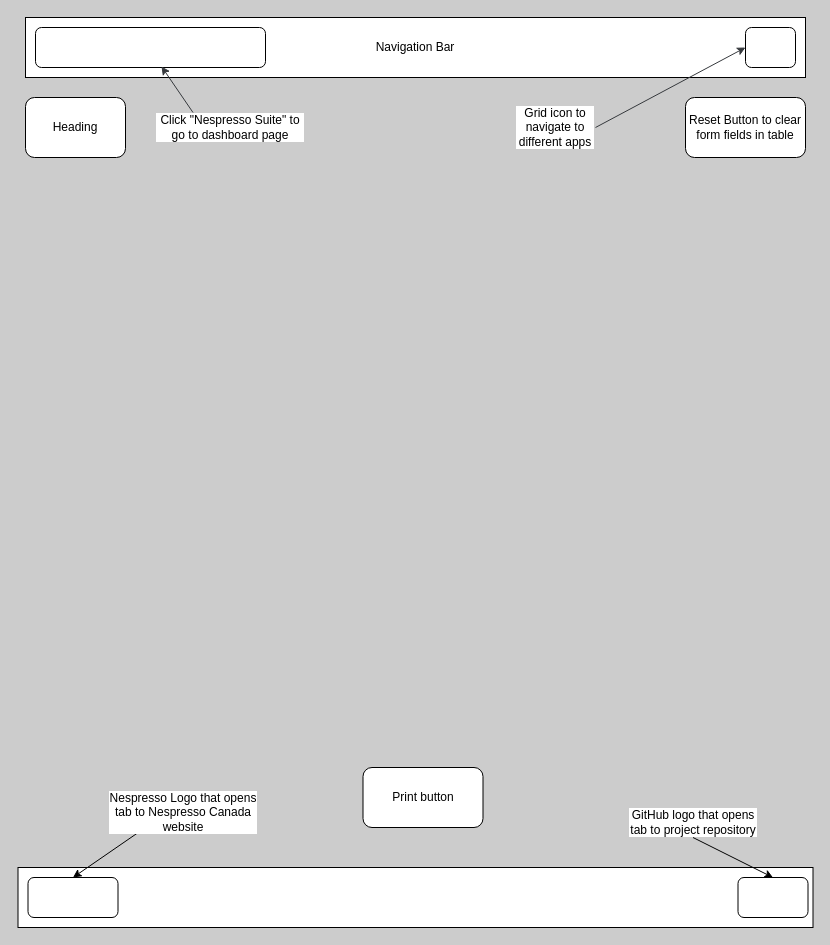
Image size: 830x945. Some labels were removed from this diagram. The shapes that lost their labels are listed below. From the top down, each one's box as (x1, y1, x2, y2) in pixels, then its label:
(34, 26, 266, 68): Nespresso Suite Title & Logo
(17, 866, 813, 928): Footer
